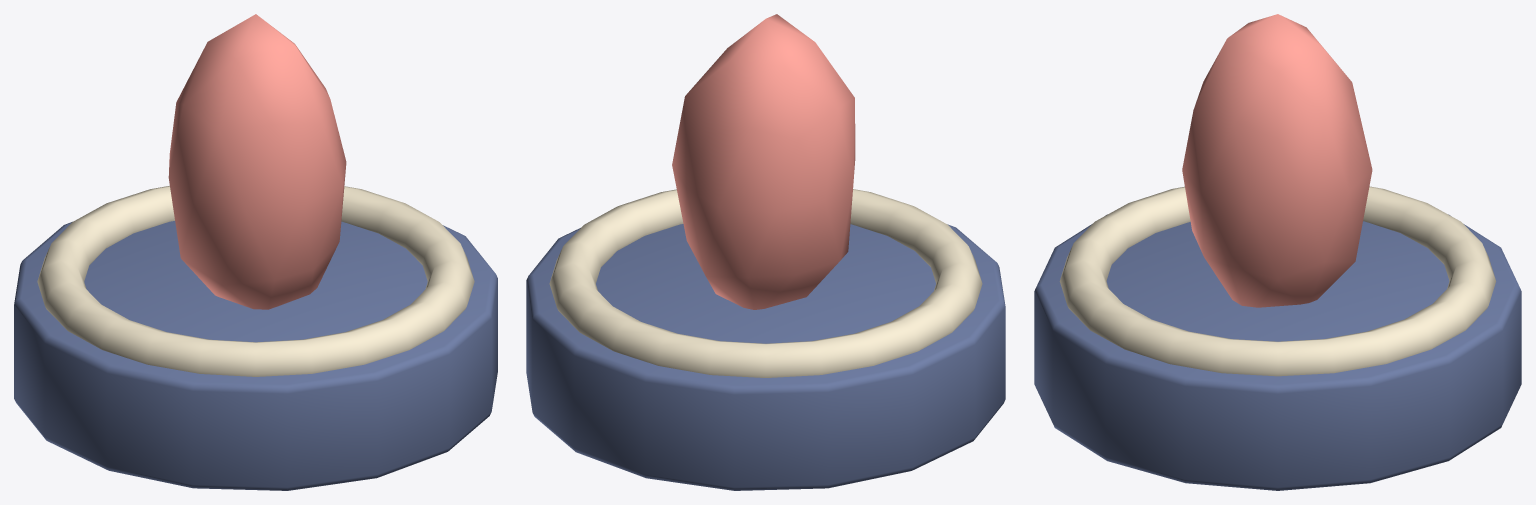
Rendered from r058_dungeon_crystal_pads_crystal_pad_03.glb.
3 renders of one model, left to right at view 1: azimuth 30°, elevation 25°; view 2: azimuth 150°, elevation 25°; view 3: azimuth 270°, elevation 25°, orthographic.
Parts seen in each view (by area): view 1: r058_dungeon_crystal_pads_crystal_pad_03.001; view 2: r058_dungeon_crystal_pads_crystal_pad_03.001; view 3: r058_dungeon_crystal_pads_crystal_pad_03.001.
Boxes of the visible parts, x1,y1,x2,y2 form: r058_dungeon_crystal_pads_crystal_pad_03.001: (14,14,497,490); r058_dungeon_crystal_pads_crystal_pad_03.001: (526,14,1005,490); r058_dungeon_crystal_pads_crystal_pad_03.001: (1034,14,1521,490).
Size of the model in its own units: 2.5 by 2.13 by 2.5.
